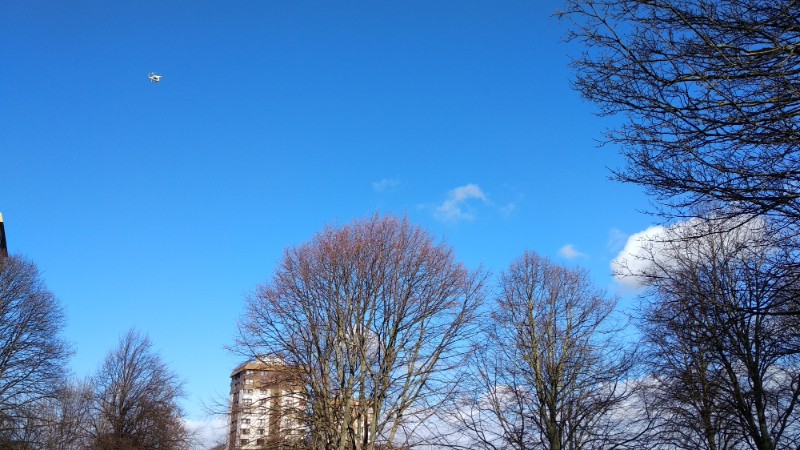drone: (148, 71, 163, 84)
